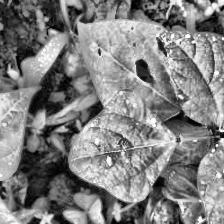Bean Rust: (72, 86, 164, 204), (151, 24, 224, 122), (0, 82, 40, 178), (196, 135, 224, 224), (0, 177, 33, 224)
